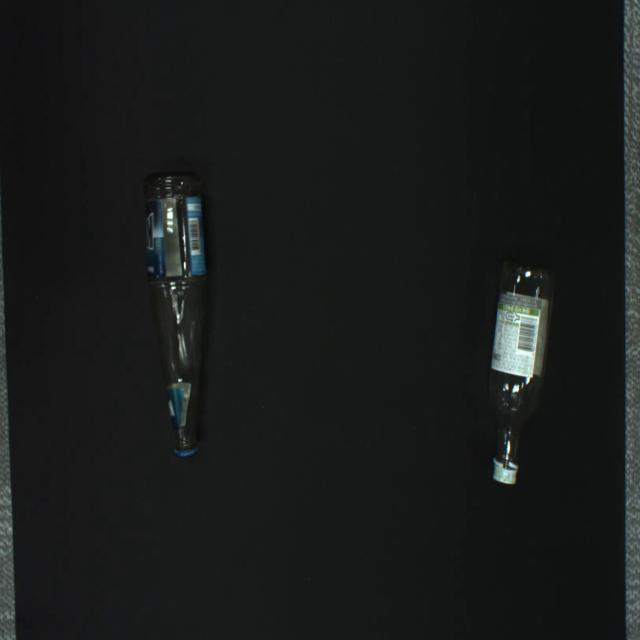beer-bottle: (145, 172, 207, 456)
soju-bottle: (490, 262, 554, 484)
